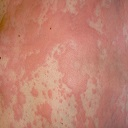Hives: (26, 13, 100, 98)
